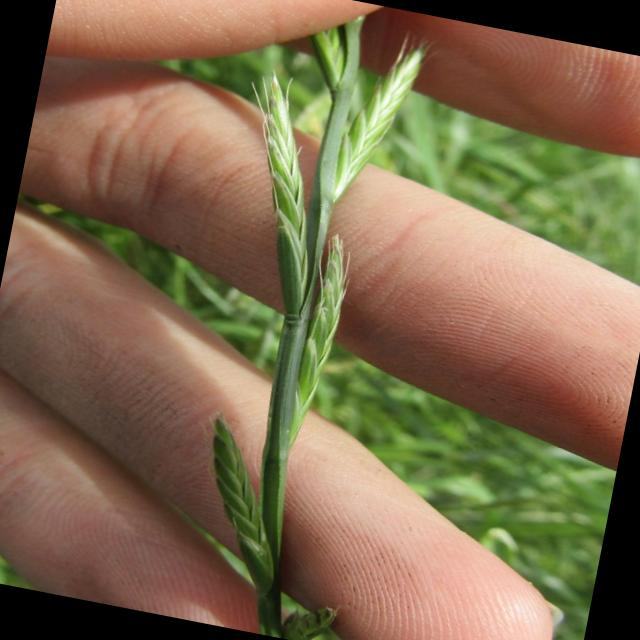Lolium: (145, 0, 443, 640)
